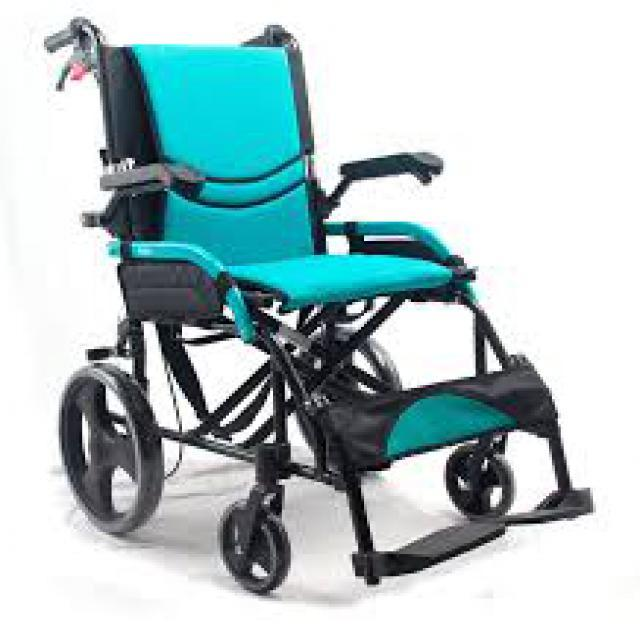wheelchair: (24, 9, 608, 598)
